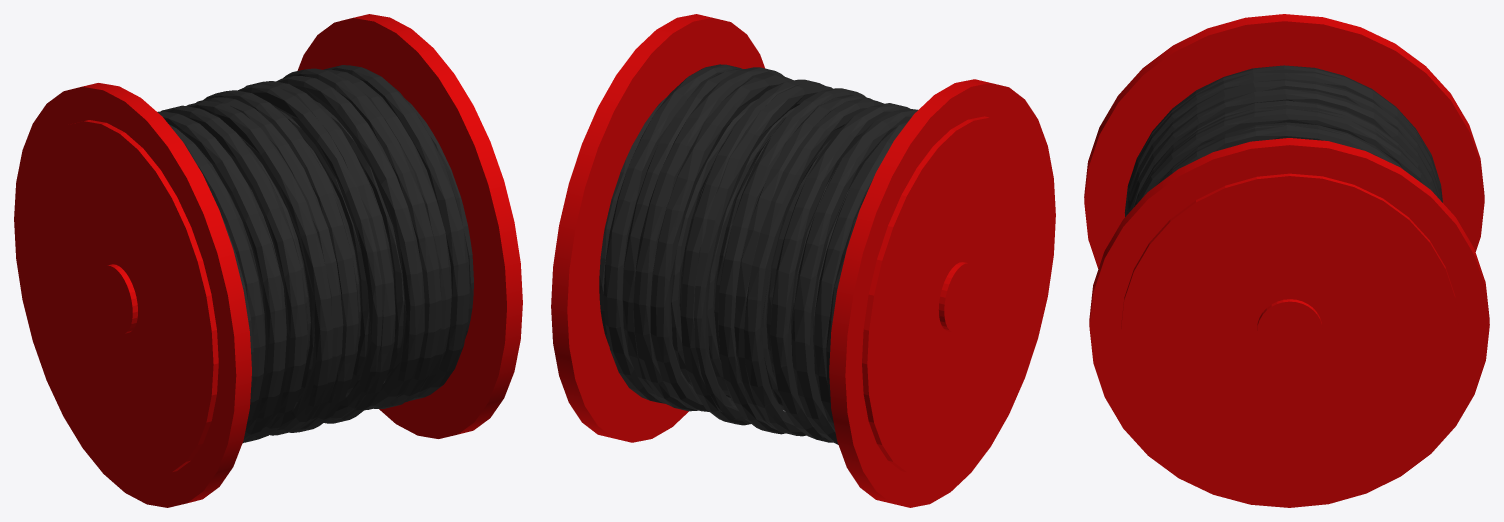
File: ta muito feio carol shaw .2.0.fbx
3 renders of one model, left to right at view 1: azimuth 30°, elevation 25°; view 2: azimuth 150°, elevation 25°; view 3: azimuth 270°, elevation 25°, orthographic. The views are drawn at different scales.
Parts seen in each view (by area): view 1: Hose reel.001; view 2: Hose reel.001; view 3: Hose reel.001.
Part boxes in pixels (x1,y1,x2,y2): Hose reel.001: (14,14,522,507); Hose reel.001: (551,14,1055,507); Hose reel.001: (1084,14,1489,507).
Bounding box in the file's own units: 1014 × 1214 × 1231.
